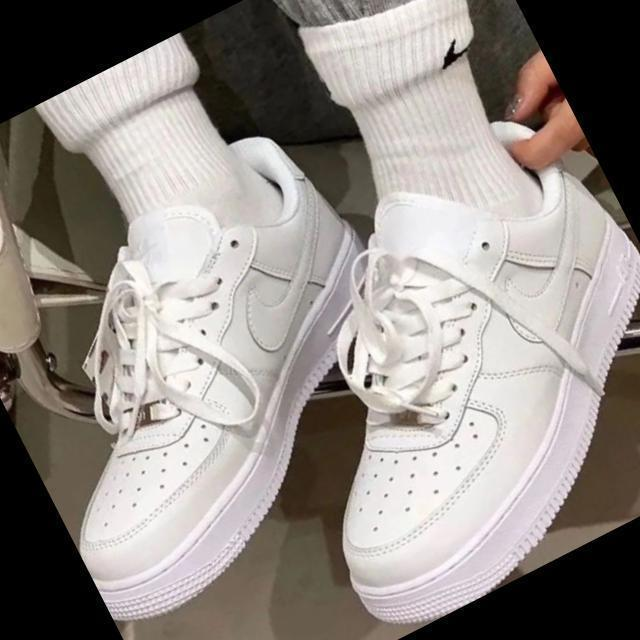nike original air force: (0, 105, 473, 632), (200, 98, 640, 640)
